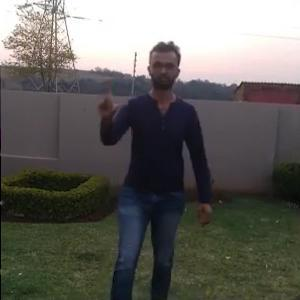land_hand: (94, 73, 129, 117)
